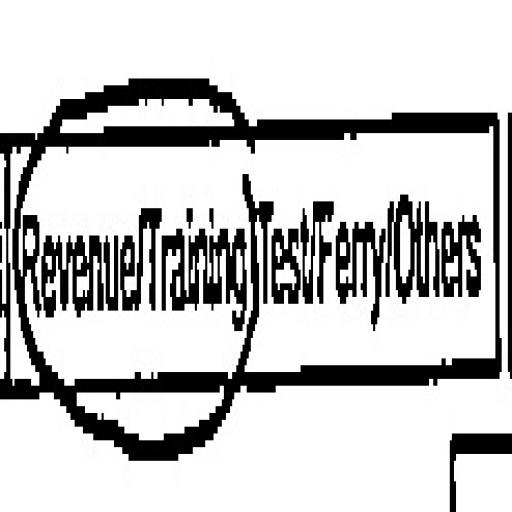check: (12, 76, 136, 464), (140, 52, 252, 465)
